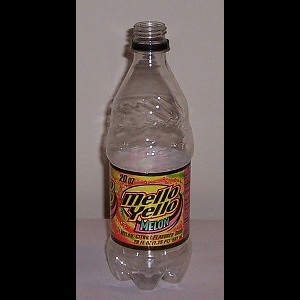emptybottle: (106, 21, 195, 291)
